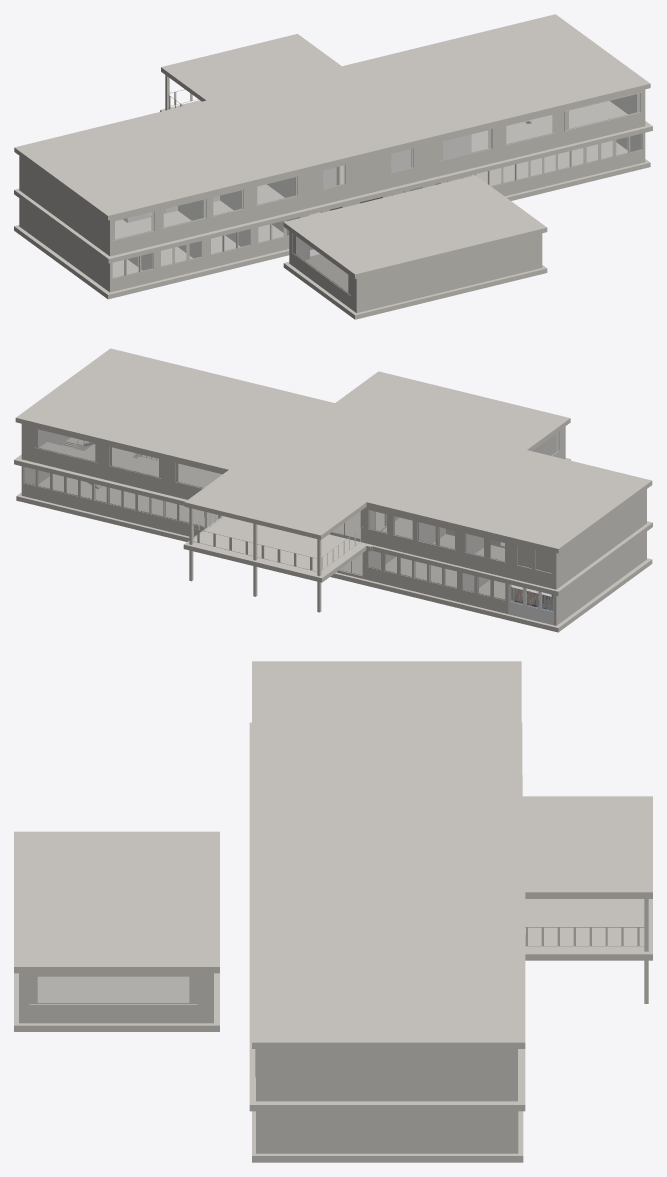
The model's file is visual_space_walk.glb.
3 views of the same model, one above another, from view 1: azimuth 30°, elevation 25°; view 2: azimuth 150°, elevation 25°; view 3: azimuth 270°, elevation 25° (orthographic). The views are drawn at different scales.
Visible parts, largest first — view 1: BEYOND_L2_SLAB, BEYOND_L1_WALL, BEYOND_L0_WALL, BEYOND_L0_SLAB, BEYOND_L1_SLAB, BEYOND_L1_GLASS, BEYOND_L0_GLASS, BEYOND_L1_FRAME, UPPER_in_zone, BEYOND_L0_FRAME, BEYOND_L1_OTHER, BEYOND_L0_OTHER; view 2: BEYOND_L2_SLAB, BEYOND_L1_SLAB, BEYOND_L1_WALL, BEYOND_L0_WALL, BEYOND_L0_SLAB, BEYOND_L1_GLASS, BEYOND_L0_GLASS, UPPER_in_zone, BEYOND_L1_FRAME, BEYOND_L0_FRAME, BEYOND_L1_OTHER, BAKE_wall_north (+6 smaller); view 3: BEYOND_L2_SLAB, BEYOND_L0_WALL, BEYOND_L1_WALL, BEYOND_L1_SLAB, BEYOND_L0_SLAB, BEYOND_L0_GLASS, UPPER_in_zone, BEYOND_L0_FRAME.
Boxes of the visible parts, bbox=[...] form: BEYOND_L2_SLAB: bbox=[14, 14, 650, 278]; BEYOND_L1_WALL: bbox=[19, 89, 645, 256]; BEYOND_L0_WALL: bbox=[19, 133, 645, 313]; BEYOND_L0_SLAB: bbox=[14, 122, 650, 319]; BEYOND_L1_SLAB: bbox=[14, 100, 652, 263]; BEYOND_L1_GLASS: bbox=[115, 94, 636, 238]; BEYOND_L0_GLASS: bbox=[113, 134, 641, 291]; BEYOND_L1_FRAME: bbox=[113, 93, 640, 240]; UPPER_in_zone: bbox=[22, 135, 103, 173]; BEYOND_L0_FRAME: bbox=[112, 134, 642, 295]; BEYOND_L1_OTHER: bbox=[112, 89, 641, 240]; BEYOND_L0_OTHER: bbox=[124, 133, 642, 295]; BEYOND_L2_SLAB: bbox=[15, 348, 652, 553]; BEYOND_L1_SLAB: bbox=[14, 442, 652, 596]; BEYOND_L1_WALL: bbox=[21, 424, 646, 589]; BEYOND_L0_WALL: bbox=[21, 426, 646, 625]; BEYOND_L0_SLAB: bbox=[16, 444, 652, 632]; BEYOND_L1_GLASS: bbox=[38, 429, 504, 560]; BEYOND_L0_GLASS: bbox=[24, 434, 555, 598]; UPPER_in_zone: bbox=[508, 509, 589, 588]; BEYOND_L1_FRAME: bbox=[34, 428, 505, 561]; BEYOND_L0_FRAME: bbox=[23, 431, 558, 600]; BEYOND_L1_OTHER: bbox=[34, 428, 505, 571]; BAKE_wall_north: bbox=[508, 584, 553, 625]; BEYOND_L2_SLAB: bbox=[14, 661, 652, 1048]; BEYOND_L0_WALL: bbox=[19, 973, 518, 1153]; BEYOND_L1_WALL: bbox=[256, 1049, 517, 1101]; BEYOND_L1_SLAB: bbox=[249, 722, 652, 1111]; BEYOND_L0_SLAB: bbox=[14, 775, 523, 1162]; BEYOND_L0_GLASS: bbox=[38, 977, 188, 1002]; UPPER_in_zone: bbox=[412, 665, 517, 697]; BEYOND_L0_FRAME: bbox=[29, 976, 197, 1003].
Bounding box in the file's own units: 38.22 × 5.6 × 27.
13 materials, 8 textured.
